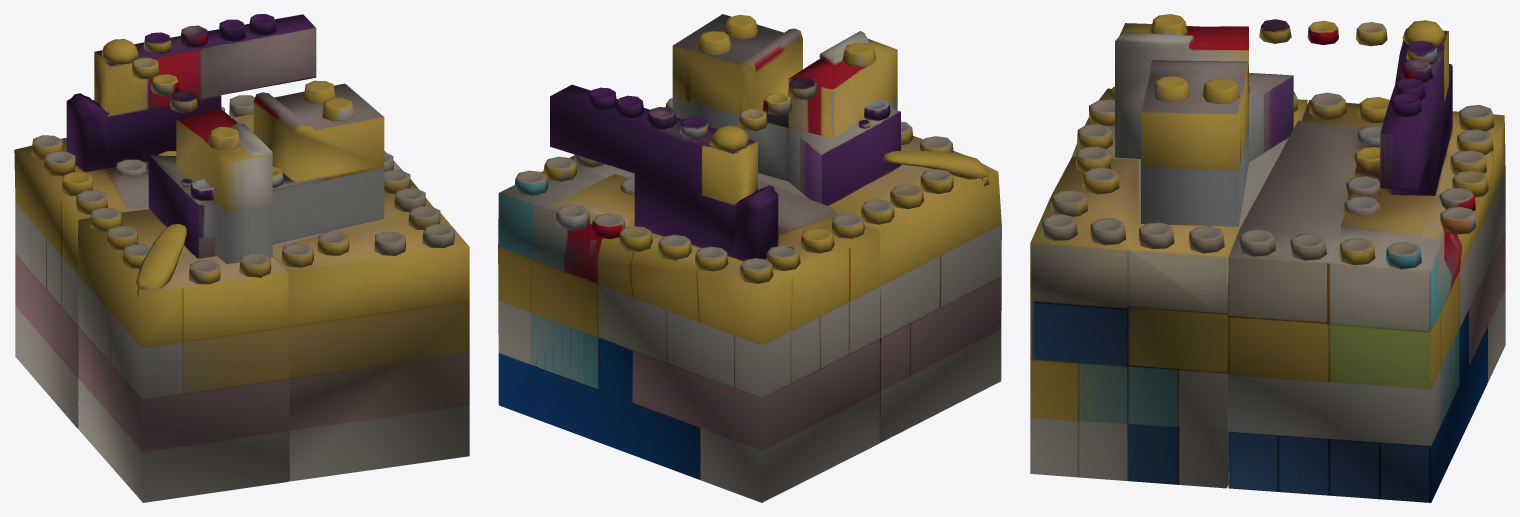
The model's file is object_4_asset_c3f433f1.glb.
3 views of the same model, side by side, from view 1: azimuth 30°, elevation 25°; view 2: azimuth 150°, elevation 25°; view 3: azimuth 270°, elevation 25° (orthographic). The views are drawn at different scales.
Parts seen in each view (by area): view 1: tripo_node_78c35ee8-1757-4263-89ef-3a69260a4e04; view 2: tripo_node_78c35ee8-1757-4263-89ef-3a69260a4e04; view 3: tripo_node_78c35ee8-1757-4263-89ef-3a69260a4e04.
Part boxes in pixels (left/top/right/bottom): tripo_node_78c35ee8-1757-4263-89ef-3a69260a4e04: left=14, top=14, right=469, bottom=502; tripo_node_78c35ee8-1757-4263-89ef-3a69260a4e04: left=498, top=14, right=1001, bottom=502; tripo_node_78c35ee8-1757-4263-89ef-3a69260a4e04: left=1030, top=14, right=1505, bottom=502.
Size of the model in its own units: 0.9316 by 0.8301 by 0.998.
Materials: 1 (1 with a texture image).
